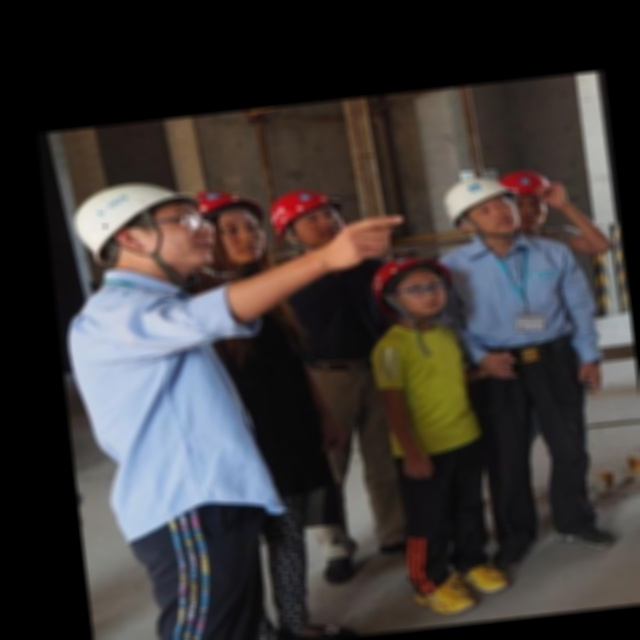Con_Casco: (366, 254, 447, 326), (441, 176, 525, 242)
